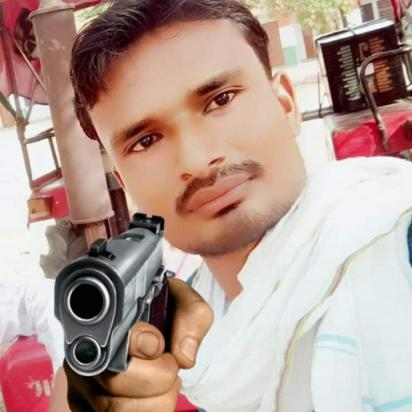Gun: (49, 208, 177, 398)
